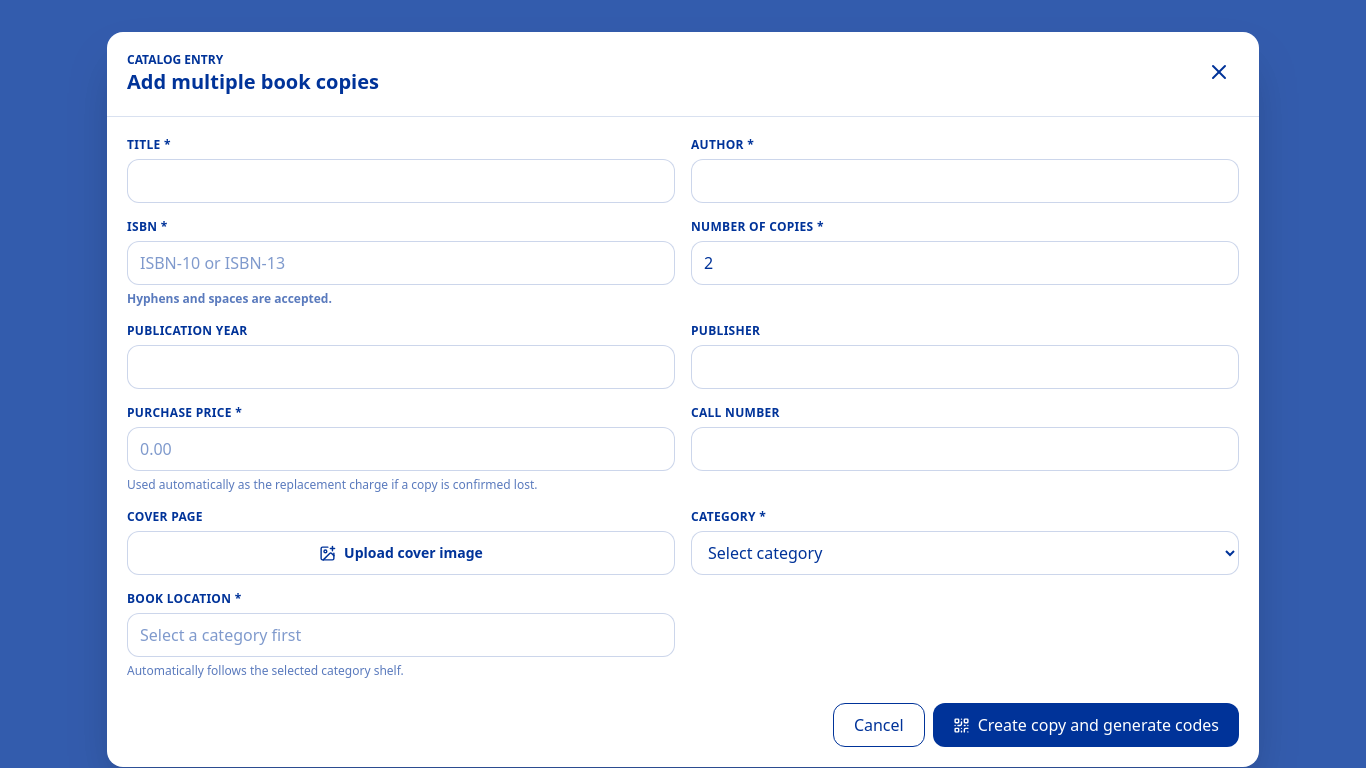
Test case: AddMultipleCopiesModal › autofills bibliographic metadata while preserving librarian-managed fields
Replace the text in the number field labelled "Number of copies *" with "4": [965, 263] box [691,241,1239,285]
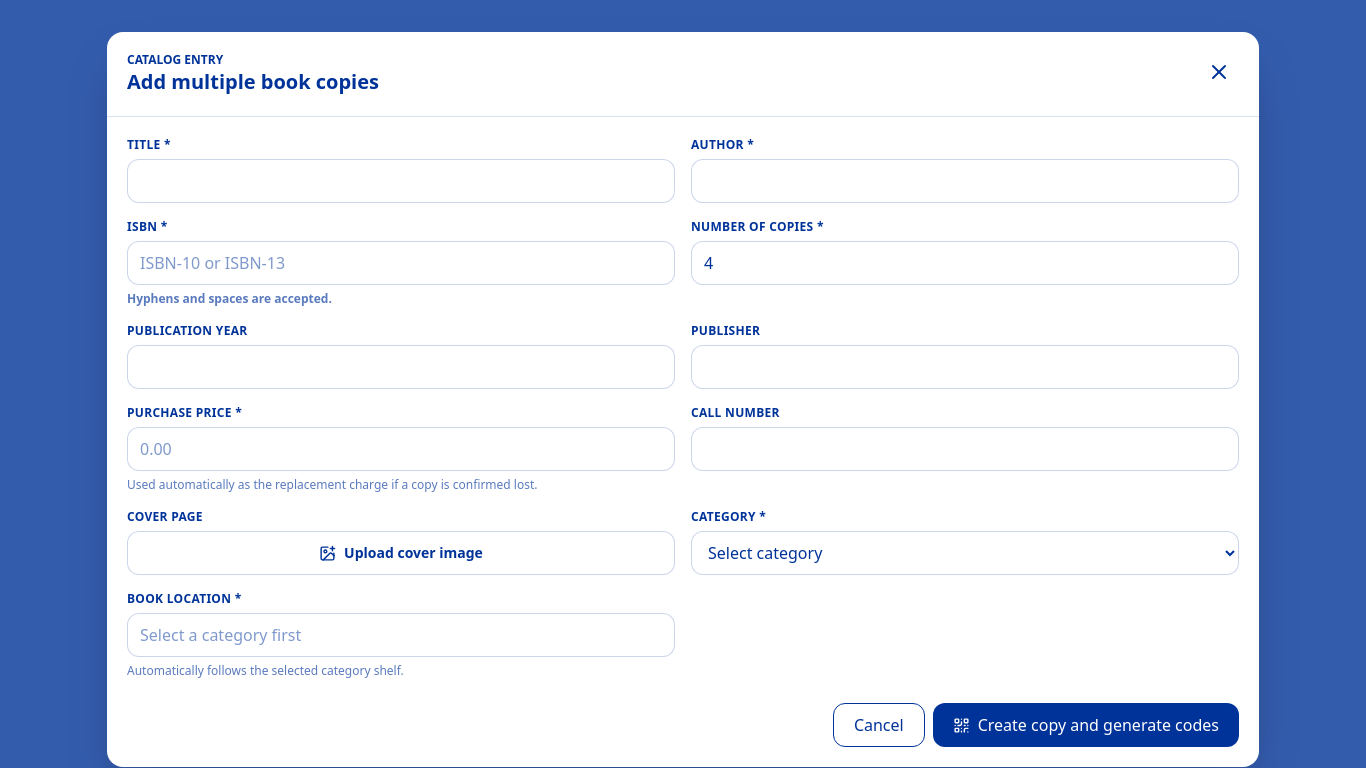
In the field labelled "Call number": [965, 449] box [691,427,1239,471], type "005.1 MAR"
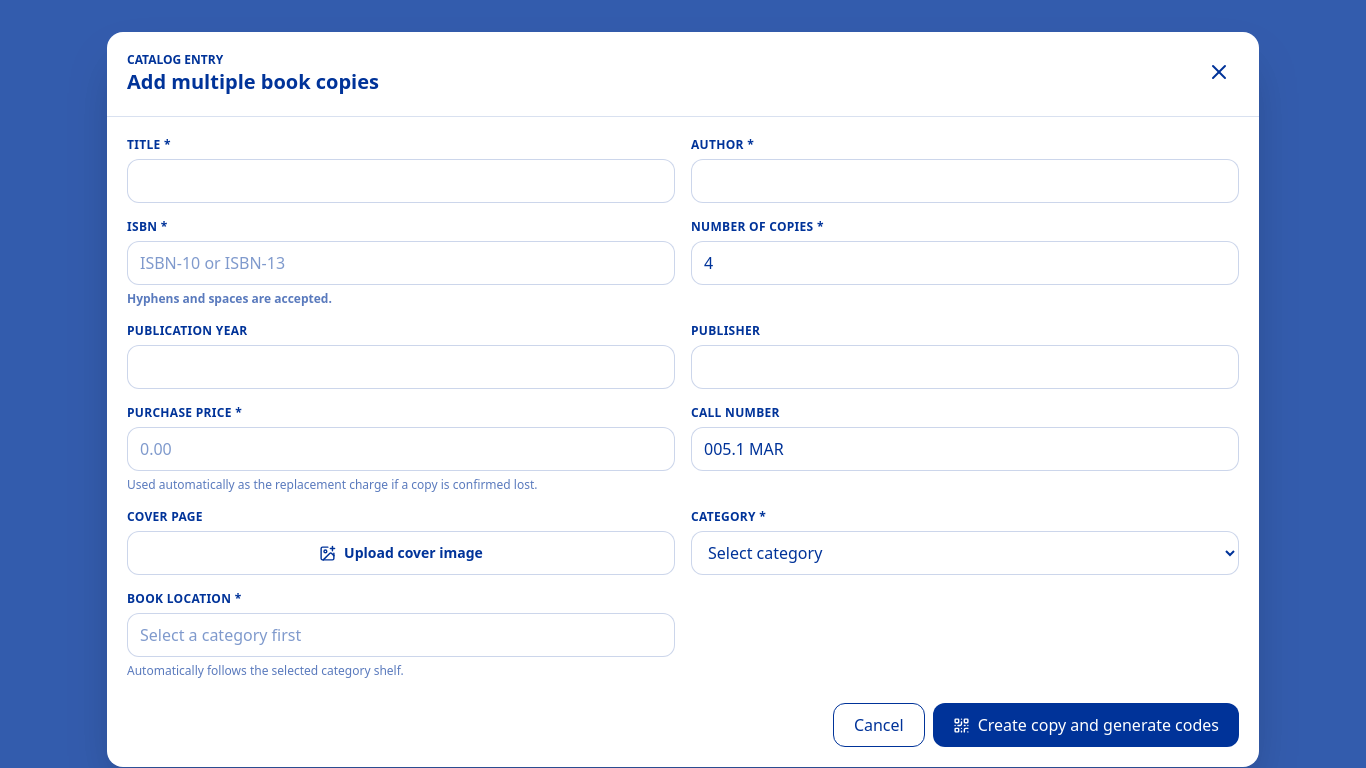
Select "Database" in the dropdown labelled "Category *": [965, 553] box [691,531,1239,575]
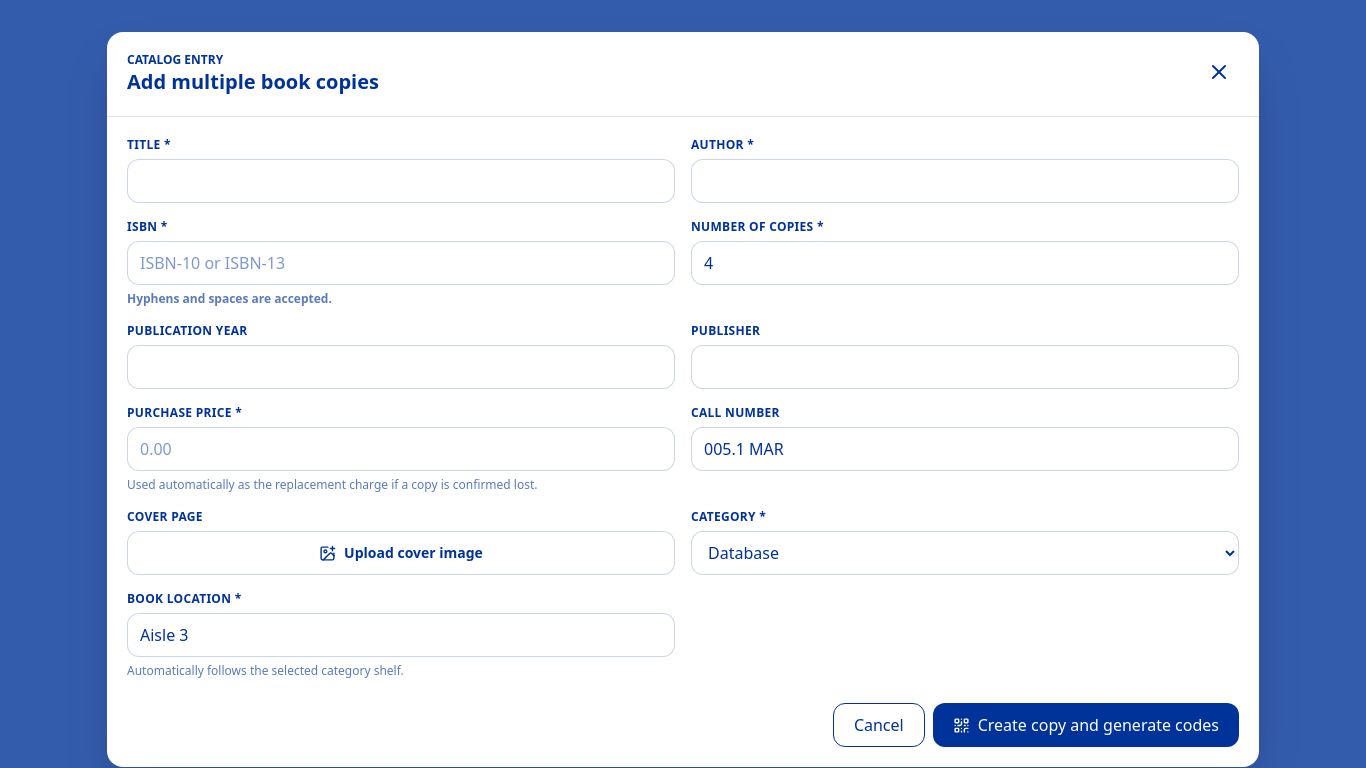
In the field labelled "ISBN * Hyphens and spaces are accepted.": [401, 263] box [127,241,675,285], type "9780132350884"
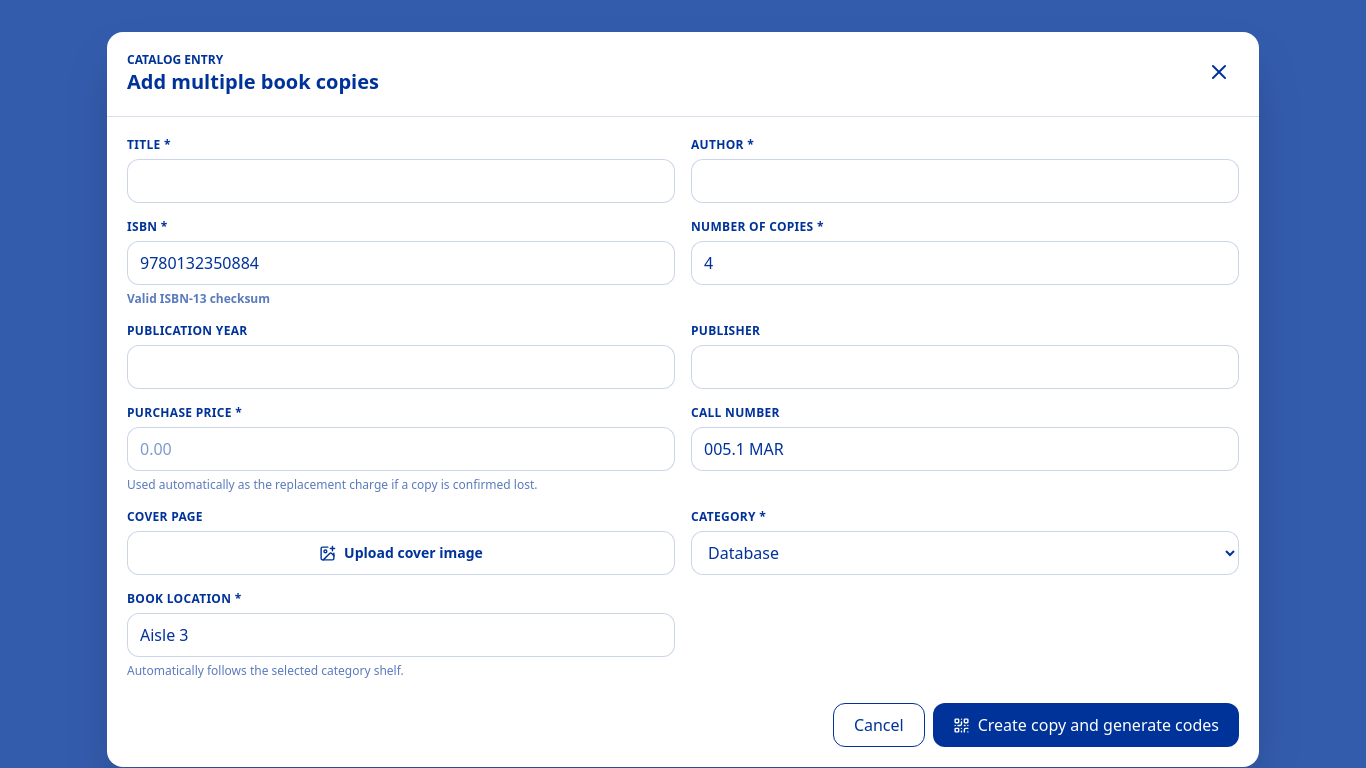
Leave the field labelled "ISBN * Valid ISBN-13 checksum", box [127,241,675,285]
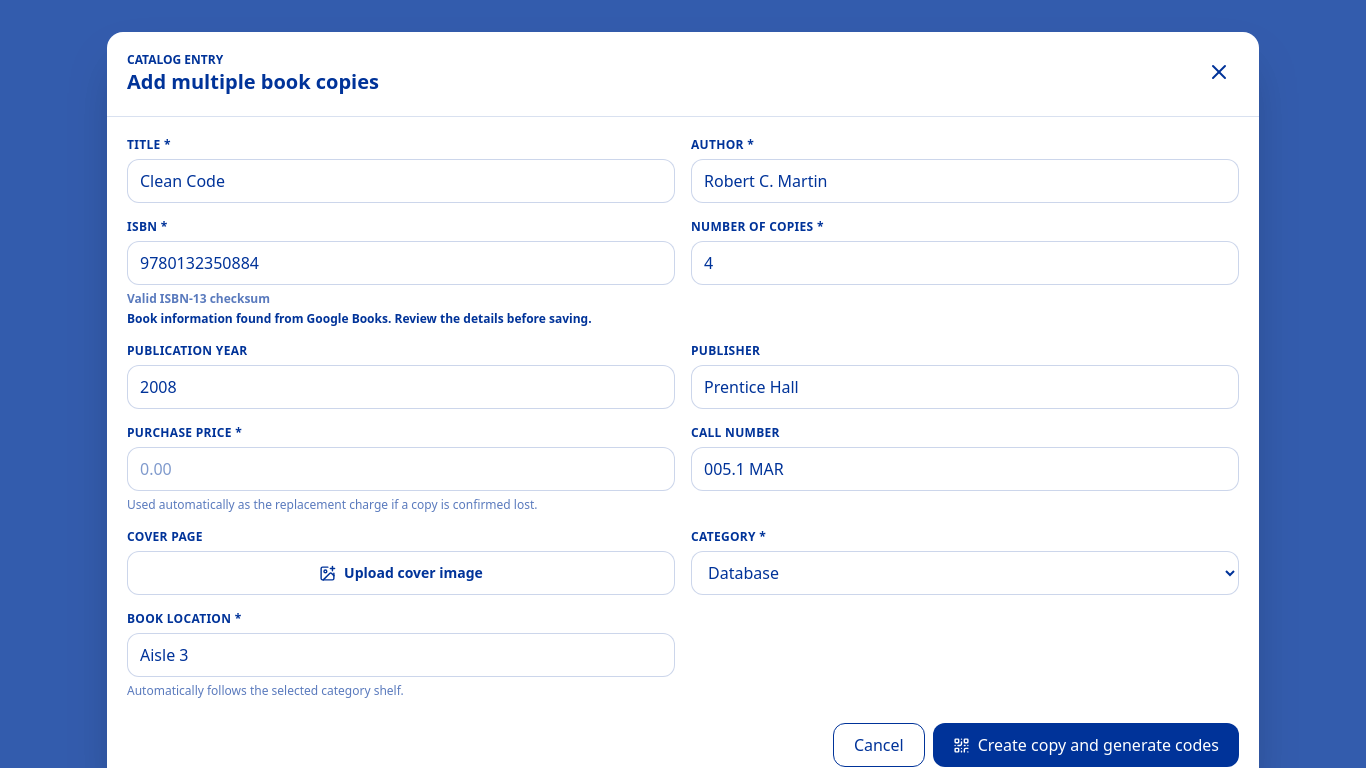
Now the field labelled "Title *" holds "Clean Code", box [127,159,675,203]
Now the field labelled "Author *" holds "Robert C. Martin", box [691,159,1239,203]
Now the field labelled "Publisher" holds "Prentice Hall", box [691,365,1239,409]
